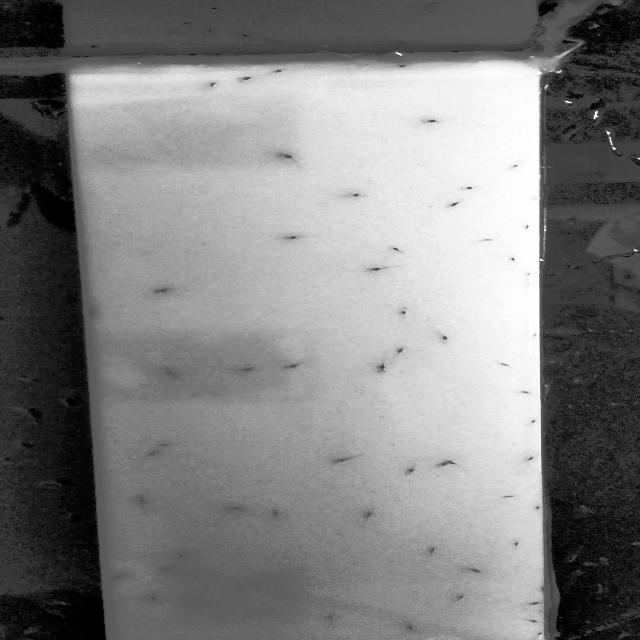shrimp: (327, 450, 375, 464), (140, 592, 171, 604), (342, 186, 370, 199), (429, 328, 458, 340), (260, 509, 291, 520), (367, 264, 404, 273), (485, 357, 515, 368), (375, 353, 390, 372), (110, 572, 135, 583), (160, 367, 180, 380), (416, 546, 441, 556), (133, 491, 152, 504), (240, 362, 262, 373), (280, 234, 310, 242), (154, 284, 179, 293), (204, 79, 228, 88), (442, 199, 466, 208), (512, 386, 533, 396), (286, 361, 312, 369), (225, 504, 251, 512), (159, 560, 176, 572), (356, 510, 373, 522), (391, 342, 407, 354), (173, 548, 190, 559), (160, 440, 183, 448), (182, 600, 205, 608), (518, 616, 538, 625), (462, 183, 484, 191), (462, 566, 484, 574), (523, 598, 542, 607), (445, 458, 462, 468), (279, 154, 299, 162), (84, 307, 100, 317), (238, 74, 257, 82), (389, 242, 404, 252), (146, 448, 161, 458), (476, 237, 494, 245), (432, 462, 446, 472), (498, 493, 518, 500), (449, 592, 466, 600), (403, 466, 417, 475), (506, 162, 521, 170), (404, 621, 416, 631), (519, 222, 531, 232), (426, 116, 439, 125), (325, 615, 341, 622), (398, 307, 410, 316), (513, 537, 521, 550), (533, 502, 541, 514), (521, 457, 540, 462), (270, 68, 288, 73), (524, 419, 539, 425), (398, 63, 412, 69), (508, 255, 519, 262)
